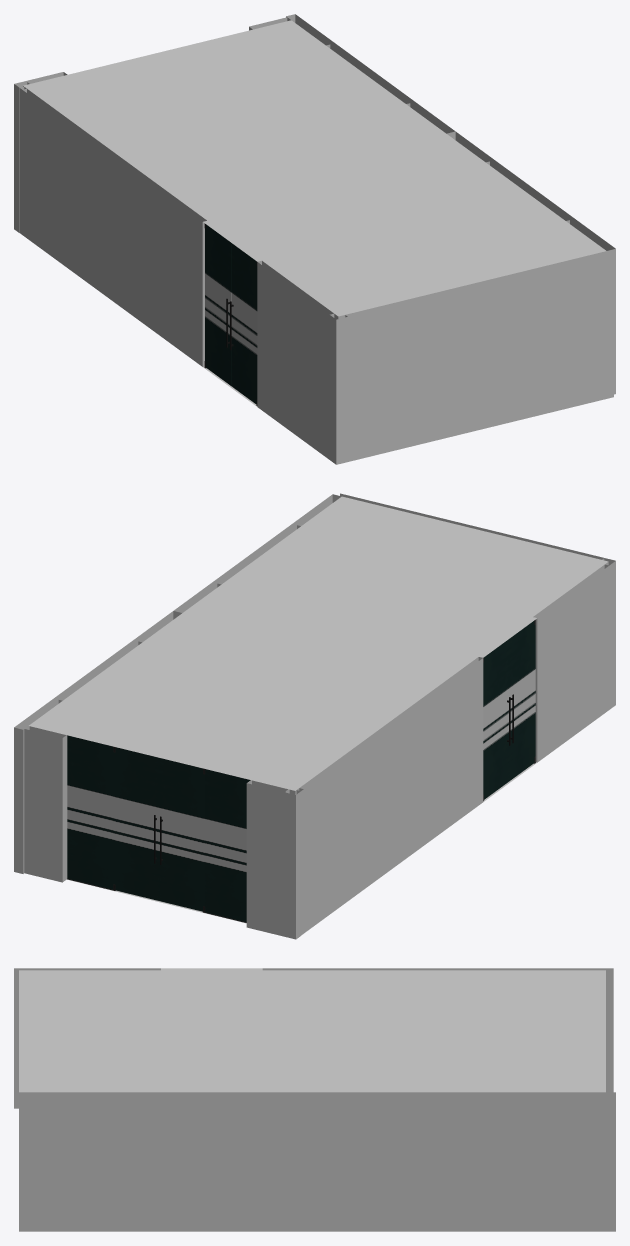
File: Reception_room_v01.fbx
The picture shows the model from 3 angles, top to bottom: view 1: azimuth 30°, elevation 25°; view 2: azimuth 150°, elevation 25°; view 3: azimuth 270°, elevation 25°; orthographic projection. The views are drawn at different scales.
Parts seen in each view (by area): view 1: Ceiling_Rec, wall_Rec, Door_R, Door_L, Wall3, Wall2, Wall4; view 2: Ceiling_Rec, wall_Rec, Wall4, Door_L (×2), Door_R (×2), Glass_1m, Glass_1m1, Wall2, Wall3; view 3: Ceiling_Rec, Wall3, Wall2, wall_Rec, Wall4, Piller_Rec3.
Part boxes in pixels (box(x1,y1,x2,y2)): Ceiling_Rec: box(23, 20, 605, 316); wall_Rec: box(16, 85, 613, 464); Door_R: box(230, 243, 257, 404); Door_L: box(204, 223, 231, 385); Wall3: box(455, 132, 615, 394); Wall2: box(286, 14, 455, 139); Wall4: box(14, 17, 290, 232); Ceiling_Rec: box(29, 496, 608, 790); wall_Rec: box(295, 493, 615, 934); Wall4: box(24, 726, 301, 939); Door_L (×2): box(159, 639, 510, 912); Door_R (×2): box(113, 620, 535, 900); Glass_1m: box(67, 735, 113, 890); Glass_1m1: box(205, 769, 250, 922); Wall2: box(14, 611, 173, 873); Wall3: box(173, 494, 341, 619); Ceiling_Rec: box(19, 970, 605, 1092); Wall3: box(19, 1092, 317, 1231); Wall2: box(317, 1092, 615, 1231); wall_Rec: box(14, 968, 610, 973); Wall4: box(603, 968, 613, 1096); Piller_Rec3: box(14, 973, 18, 1108).
Size of the model in its own units: 613 by 300 by 1210.
